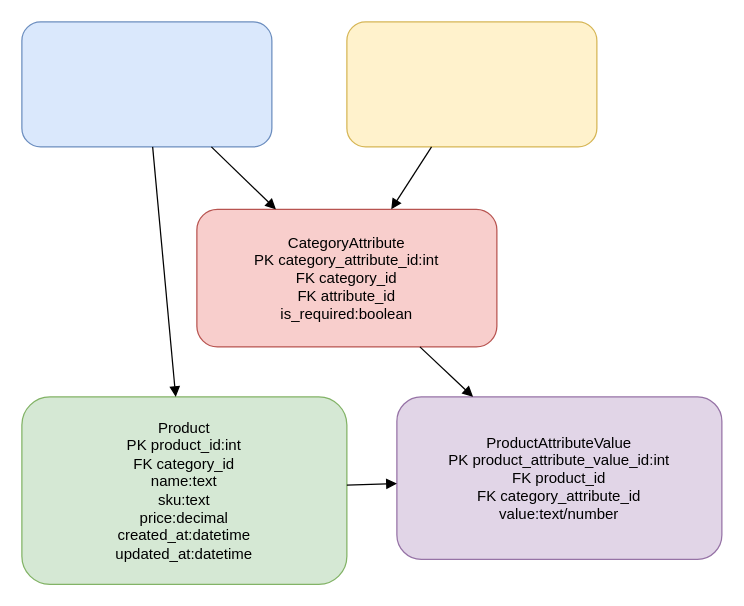
The diagram is 744 pixels wide and 606 high, and some of its shapes have lost their labels. Here are the shapes that lost their labels. From the top down, the centre of each, then its label:
At pixel 146 84: "Category PK category_id:int name:text description:text".
At pixel 471 84: "Attribute PK attribute_id:int name:text data_type:enum".
